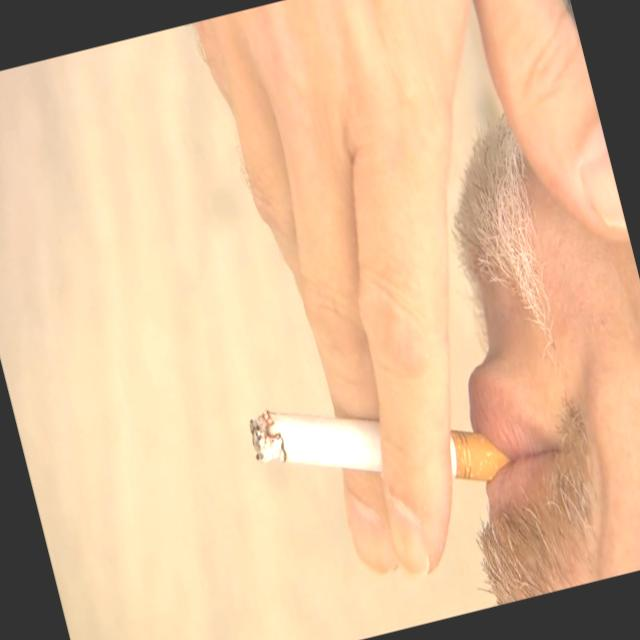smoke: (227, 297, 560, 640)
